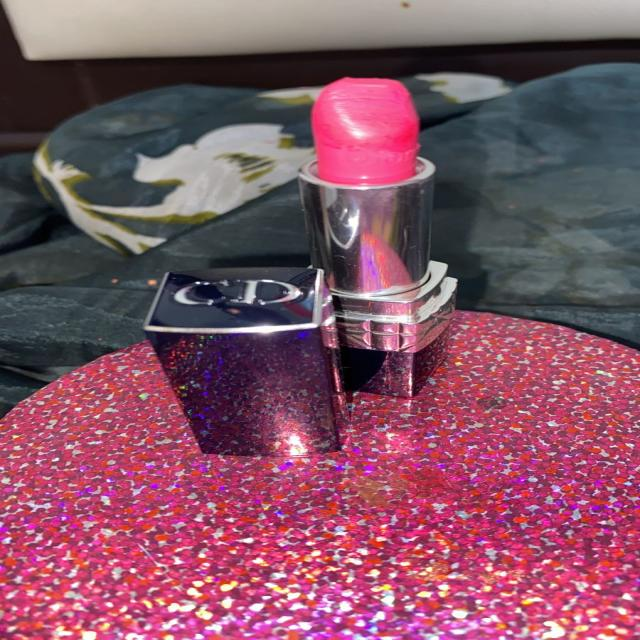lip stick: (268, 64, 505, 422)
